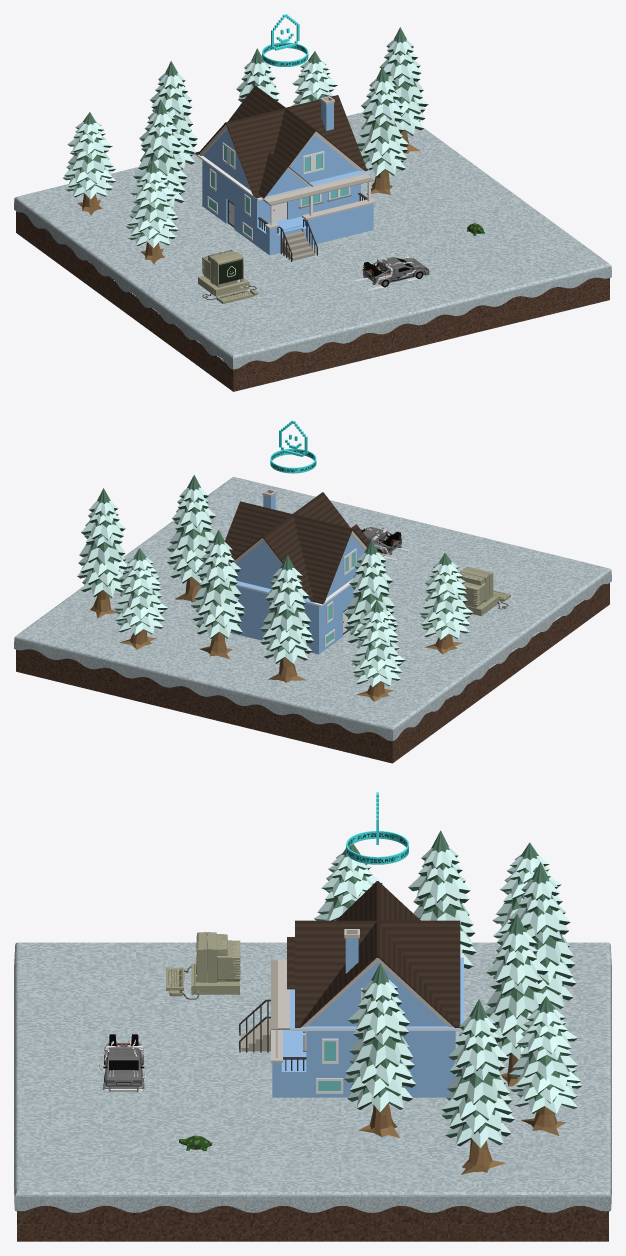
The picture shows the model from 3 angles, top to bottom: view 1: azimuth 30°, elevation 25°; view 2: azimuth 150°, elevation 25°; view 3: azimuth 270°, elevation 25°; orthographic projection. The views are drawn at different scales.
Visible parts, largest first — view 1: Cube.003, Cube.1594, OBJRANDOM_RETRO_PC, VEHICLES_DELOREAN, TYPE_PREMIUM; view 2: Cube.003, Cube.1594, OBJRANDOM_RETRO_PC, TYPE_PREMIUM, VEHICLES_DELOREAN; view 3: Cube.003, Cube.1594, OBJRANDOM_RETRO_PC, VEHICLES_DELOREAN, TYPE_PREMIUM.
Part boxes in pixels (left/top/right/bottom): Cube.003: left=14, top=27, right=611, bottom=391; Cube.1594: left=194, top=85, right=376, bottom=261; OBJRANDOM_RETRO_PC: left=198, top=250, right=258, bottom=303; VEHICLES_DELOREAN: left=350, top=251, right=430, bottom=290; TYPE_PREMIUM: left=262, top=14, right=308, bottom=66; Cube.003: left=14, top=475, right=611, bottom=763; Cube.1594: left=225, top=489, right=388, bottom=654; OBJRANDOM_RETRO_PC: left=460, top=566, right=510, bottom=615; TYPE_PREMIUM: left=270, top=420, right=316, bottom=473; VEHICLES_DELOREAN: left=360, top=522, right=414, bottom=560; Cube.003: left=14, top=830, right=611, bottom=1241; Cube.1594: left=239, top=881, right=463, bottom=1097; OBJRANDOM_RETRO_PC: left=166, top=932, right=240, bottom=999; VEHICLES_DELOREAN: left=95, top=1034, right=148, bottom=1092; TYPE_PREMIUM: left=346, top=792, right=408, bottom=864.
Size of the model in its own units: 4040 by 2568 by 4040.
Materials: 40 (4 with a texture image).
